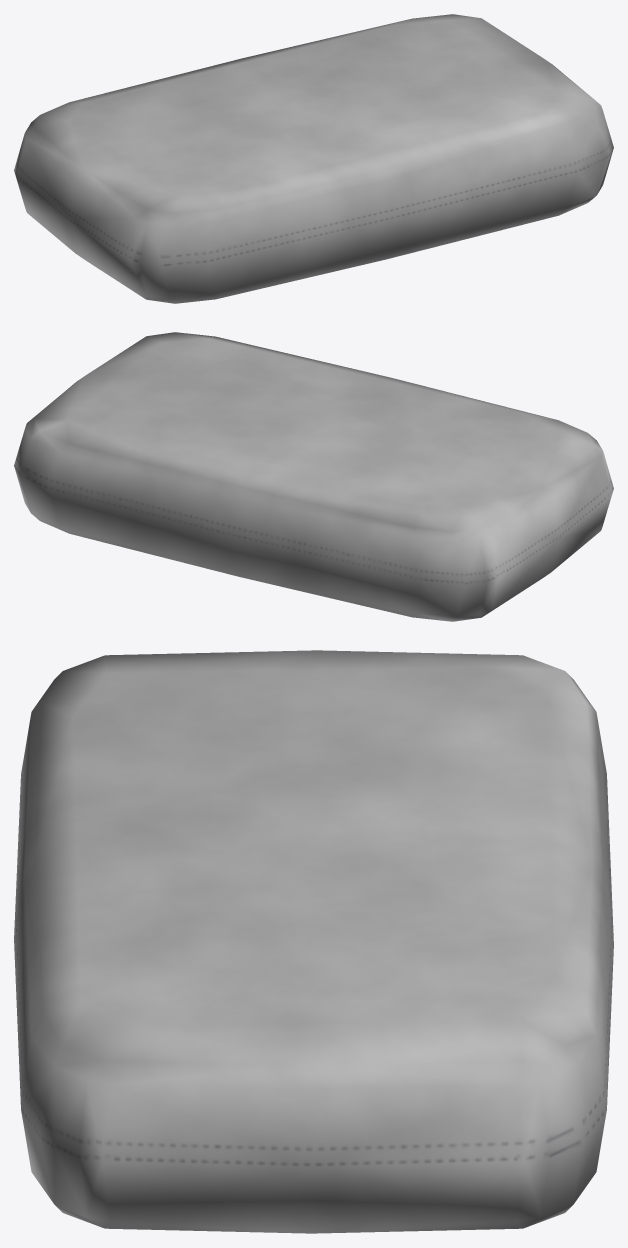
The model's file is LowerTorso_C1.fbx.
3 views of the same model, one above another, from view 1: azimuth 30°, elevation 25°; view 2: azimuth 150°, elevation 25°; view 3: azimuth 270°, elevation 25° (orthographic). The views are drawn at different scales.
Visible parts, largest first — view 1: Civ_Jean_LowerTorso_C1; view 2: Civ_Jean_LowerTorso_C1; view 3: Civ_Jean_LowerTorso_C1.
Boxes of the visible parts, x1=… form: Civ_Jean_LowerTorso_C1: x1=14, y1=14, x2=613, y2=303; Civ_Jean_LowerTorso_C1: x1=14, y1=332, x2=613, y2=621; Civ_Jean_LowerTorso_C1: x1=14, y1=650, x2=613, y2=1233.
Size of the model in its own units: 2.28 by 0.4721 by 1.29.
